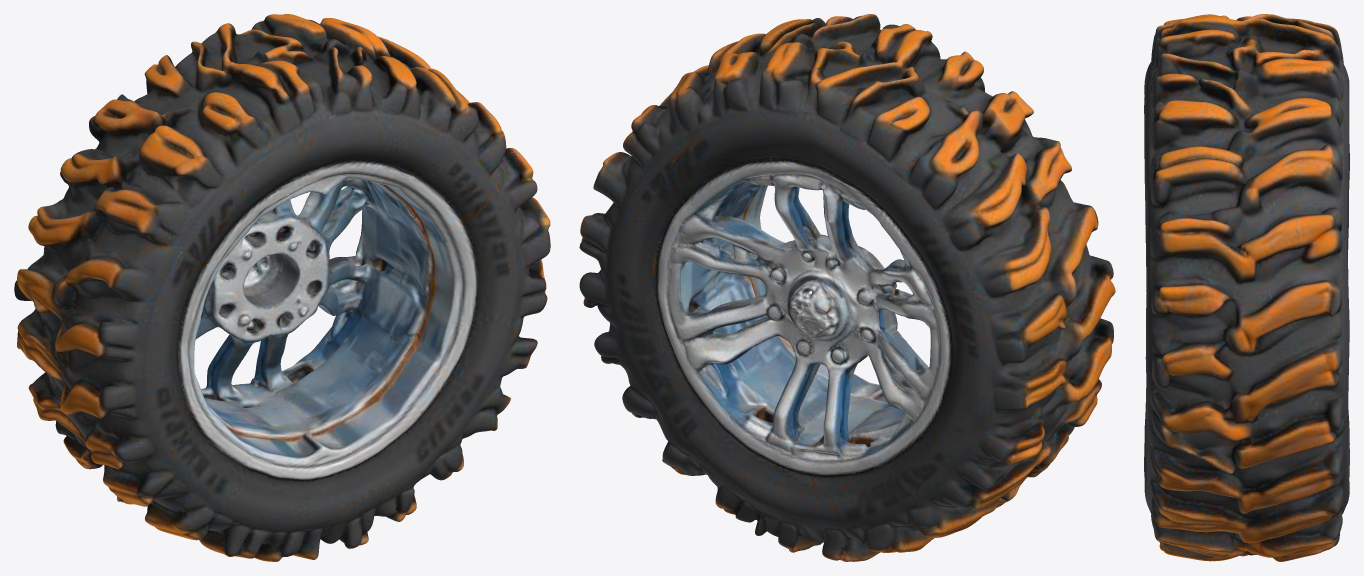
Rendered from Monster-truck-tire.glb.
3 renders of one model, left to right at view 1: azimuth 30°, elevation 25°; view 2: azimuth 150°, elevation 25°; view 3: azimuth 270°, elevation 25°, orthographic.
Bounding box in the file's own units: 2 × 2 × 0.751.
Materials: 1 (1 with a texture image).
